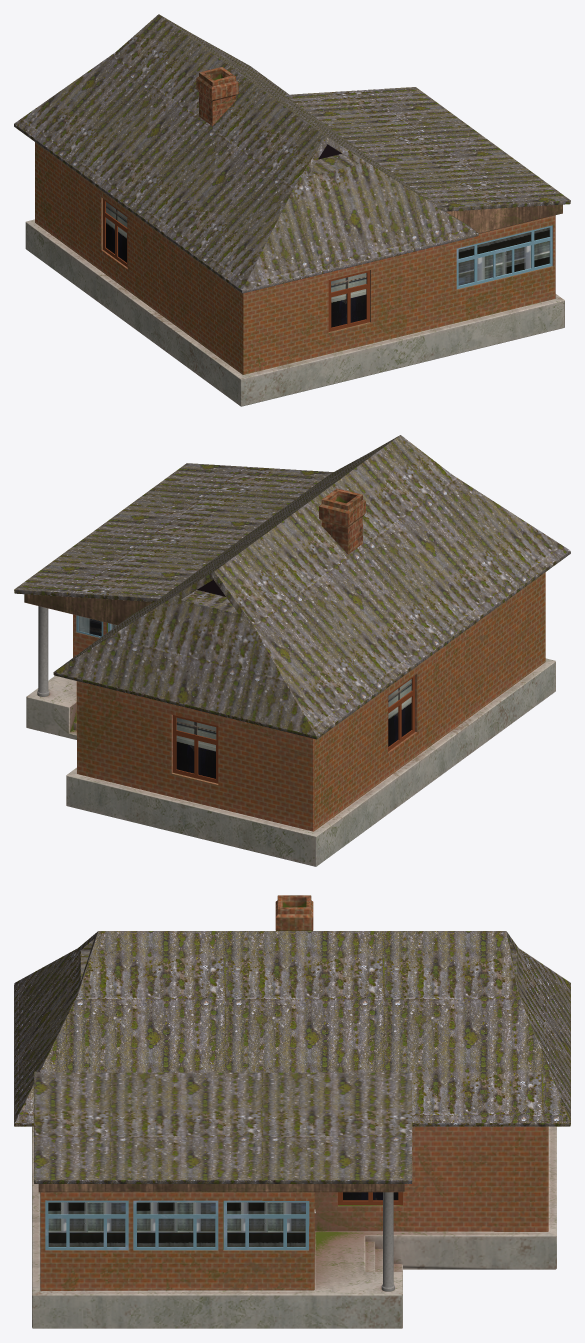
The picture shows the model from 3 angles, top to bottom: view 1: azimuth 30°, elevation 25°; view 2: azimuth 150°, elevation 25°; view 3: azimuth 270°, elevation 25°; orthographic projection. The views are drawn at different scales.
Parts seen in each view (by area): view 1: Roof.001_16, BASE.001_10, Roof 2.001_17, Window terrace 6.002_38, Visor.001_18, flue.001_14, Window terrace 6_21, Window 4.004_32, Window 4.001_20, Window 3.004_30, Window 3.001_19; view 2: Roof.001_16, BASE.001_10, Roof 2.001_17, flue.001_14, Visor.001_18, Window 4.003_31, Window 4.002_28, Window 3.004_30, pipe.001_15, Window 3.001_19; view 3: Roof.001_16, BASE.001_10, Roof 2.001_17, Visor.001_18, Window terrace 4.001_36, Window terrace 3.001_35, Window terrace 5.002_37, Window terrace 4_25, Window terrace 3_22, Window terrace 5_26, flue.001_14, pipe.001_15.
Part boxes in pixels (<box>): Roof.001_16: <box>14,14,478,293</box>; BASE.001_10: <box>25,142,564,406</box>; Roof 2.001_17: <box>285,87,570,211</box>; Window terrace 6.002_38: <box>458,227,549,285</box>; Visor.001_18: <box>446,204,562,233</box>; flue.001_14: <box>196,67,238,125</box>; Window terrace 6_21: <box>456,225,552,289</box>; Window 4.004_32: <box>331,273,366,327</box>; Window 4.001_20: <box>328,270,369,331</box>; Window 3.004_30: <box>106,202,127,262</box>; Window 3.001_19: <box>103,198,127,267</box>; Roof.001_16: <box>53,435,570,739</box>; BASE.001_10: <box>26,572,555,866</box>; Roof 2.001_17: <box>14,463,333,601</box>; flue.001_14: <box>319,488,365,554</box>; Visor.001_18: <box>24,594,152,625</box>; Window 4.003_31: <box>176,717,216,778</box>; Window 4.002_28: <box>173,715,218,783</box>; Window 3.004_30: <box>388,679,411,746</box>; pipe.001_15: <box>37,606,49,696</box>; Window 3.001_19: <box>388,675,414,751</box>; Roof.001_16: <box>14,931,570,1126</box>; BASE.001_10: <box>32,1126,556,1328</box>; Roof 2.001_17: <box>34,1071,412,1183</box>; Visor.001_18: <box>38,1184,404,1192</box>; Window terrace 4.001_36: <box>136,1202,215,1246</box>; Window terrace 3.001_35: <box>227,1202,305,1246</box>; Window terrace 5.002_37: <box>48,1202,125,1246</box>; Window terrace 4_25: <box>133,1200,218,1250</box>; Window terrace 3_22: <box>223,1200,309,1250</box>; Window terrace 5_26: <box>45,1200,128,1250</box>; flue.001_14: <box>275,895,313,930</box>; pipe.001_15: <box>381,1192,394,1291</box>.
Size of the model in its own units: 4.75 by 3.14 by 5.58.
13 materials, 9 textured.
